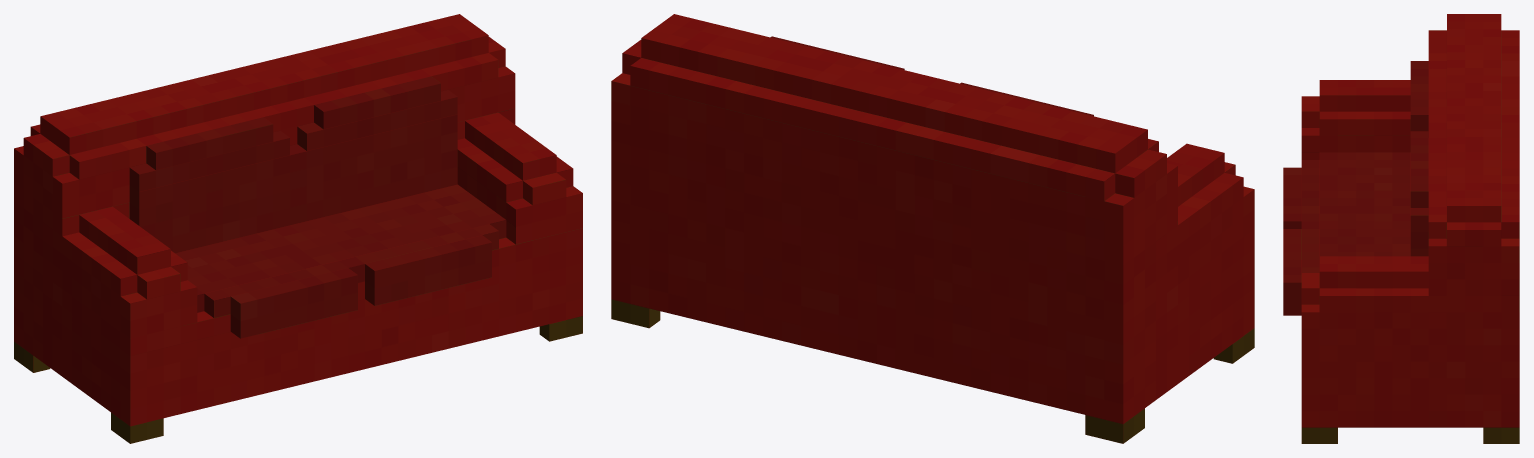
The model's file is Couch.fbx.
3 views of the same model, side by side, from view 1: azimuth 30°, elevation 25°; view 2: azimuth 150°, elevation 25°; view 3: azimuth 270°, elevation 25° (orthographic). The views are drawn at different scales.
Parts seen in each view (by area): view 1: Couch; view 2: Couch; view 3: Couch.
Boxes of the visible parts, x1=… form: Couch: x1=14, y1=14, x2=582, y2=443; Couch: x1=611, y1=14, x2=1254, y2=443; Couch: x1=1283, y1=14, x2=1519, y2=443.
Bounding box in the file's own units: 27 × 14 × 13.
